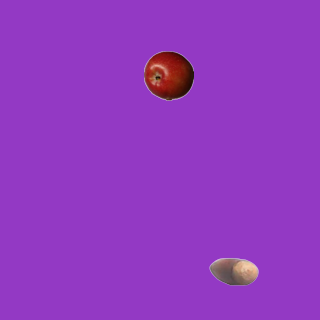Apple Braeburn: (143, 50, 193, 100)
Hazelnut: (208, 246, 258, 296)
